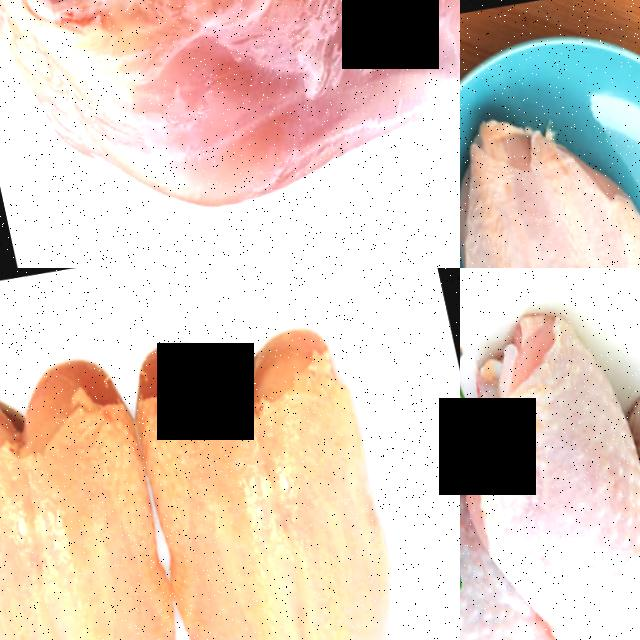chicken breast: (124, 293, 452, 640), (0, 317, 224, 640), (460, 79, 640, 268)
chicken thigh: (0, 0, 460, 268), (460, 300, 640, 640), (460, 472, 604, 640)
